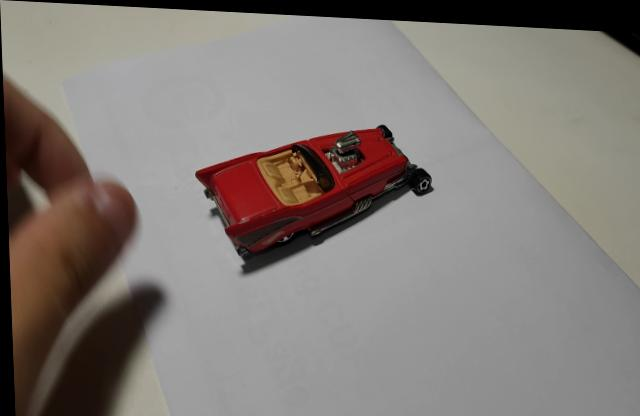03_V8: (193, 121, 433, 274)
